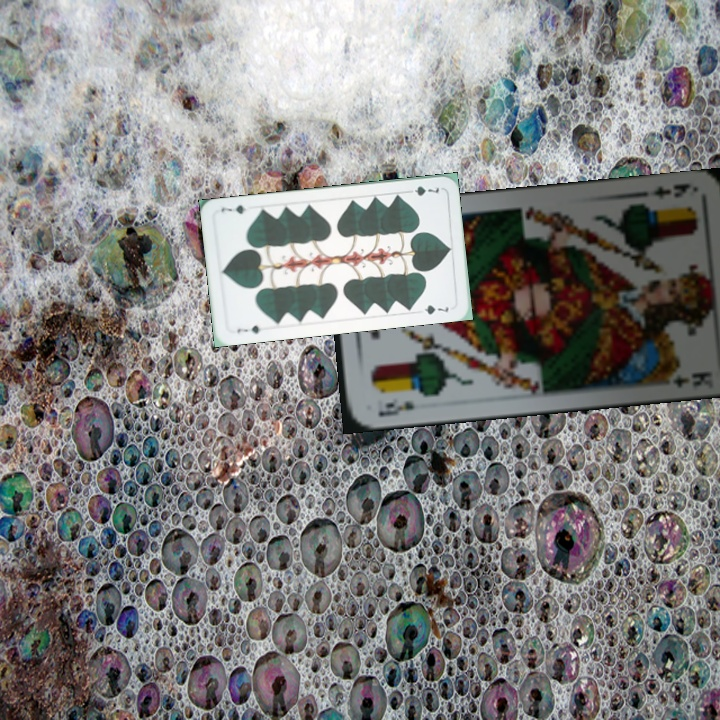EK: (636, 179, 692, 201), (375, 396, 417, 420)
G7: (402, 182, 441, 199), (233, 321, 264, 337)
